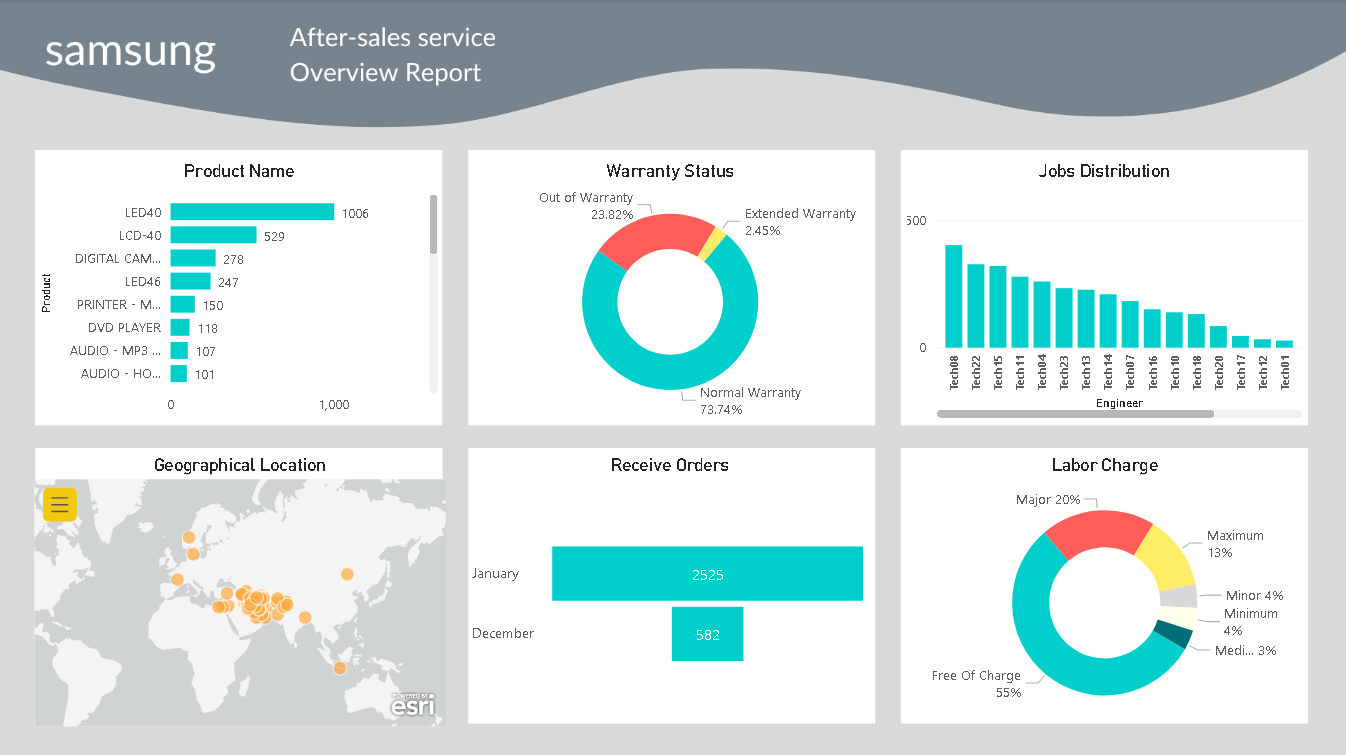

This screenshot's page, from the dashboard's own definition file:
{"tool":"powerbi","page":{"name":"General info","canvas":[1280,720],"ordinal":0},"visuals":[{"type":"barChart","title":"Product Name","fields":{"Category":["samdata_clean.Product_Group"],"Y":["CountNonNull(samdata_clean.Product_Group)"]},"box":[37.3,152.5,386.4,249.5],"z":0},{"type":"donutChart","title":"Warranty Status","fields":{"Category":["samdata_clean.Cost_Type"],"Y":["CountNonNull(samdata_clean.Cost_Type)"]},"box":[446.2,152.5,385.6,249.5],"z":1000},{"type":"clusteredColumnChart","title":"Jobs Distribution","fields":{"Category":["samdata_clean.Engineer"],"Y":["CountNonNull(samdata_clean.Engineer)"]},"box":[858.6,152.5,384.7,249.5],"z":2000},{"type":"esriVisual","title":"Geographical Location","fields":{"Location":["samdata_clean.City"]},"box":[30.3,431.5,399.4,263.4],"z":3000},{"type":"funnel","title":"Receive Orders","fields":{"Y":["CountNonNull(samdata_clean.Receipt_Date)"],"Category":["samdata_clean.Receipt_Date.Variation.Date Hierarchy.Month"]},"box":[446.2,431.5,385.6,263.4],"z":4000},{"type":"donutChart","title":"Labor Charge","fields":{"Y":["CountNonNull(data.Labor_Charge_Desc)"],"Category":["data.Labor_Charge_Desc"]},"box":[858.6,431.5,384.7,263.4],"z":5000}]}

Visuals, with their boxes in screenshot pixels (x1, y1, x2, y2), scaled from the page's 1280x720 canvas onto the 1346x755 screenshot:
"Product Name" barChart: l=39, t=160, r=446, b=422
"Warranty Status" donutChart: l=469, t=160, r=875, b=422
"Jobs Distribution" clusteredColumnChart: l=903, t=160, r=1307, b=422
"Geographical Location" esriVisual: l=32, t=452, r=452, b=729
"Receive Orders" funnel: l=469, t=452, r=875, b=729
"Labor Charge" donutChart: l=903, t=452, r=1307, b=729
